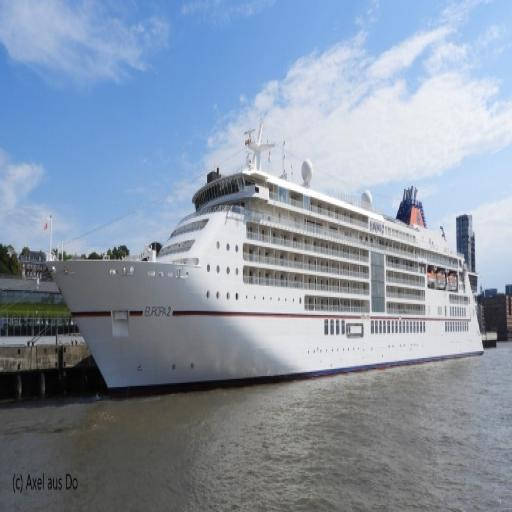cruises: (45, 117, 493, 404)
